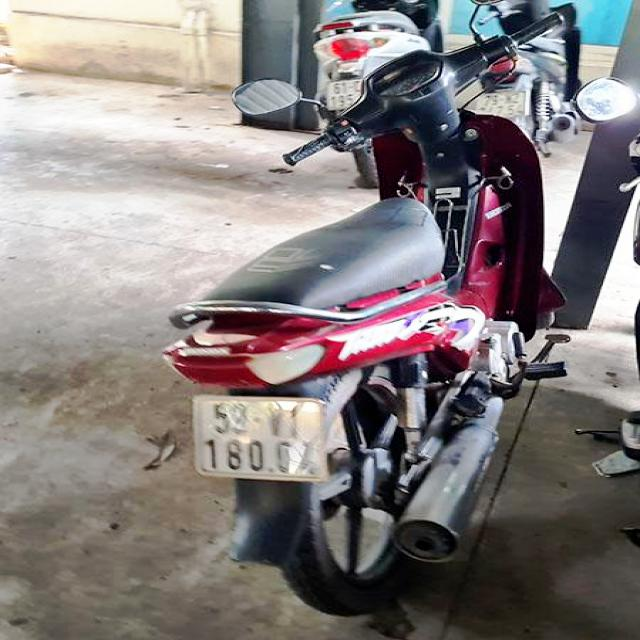license_plate: (196, 397, 328, 486)
